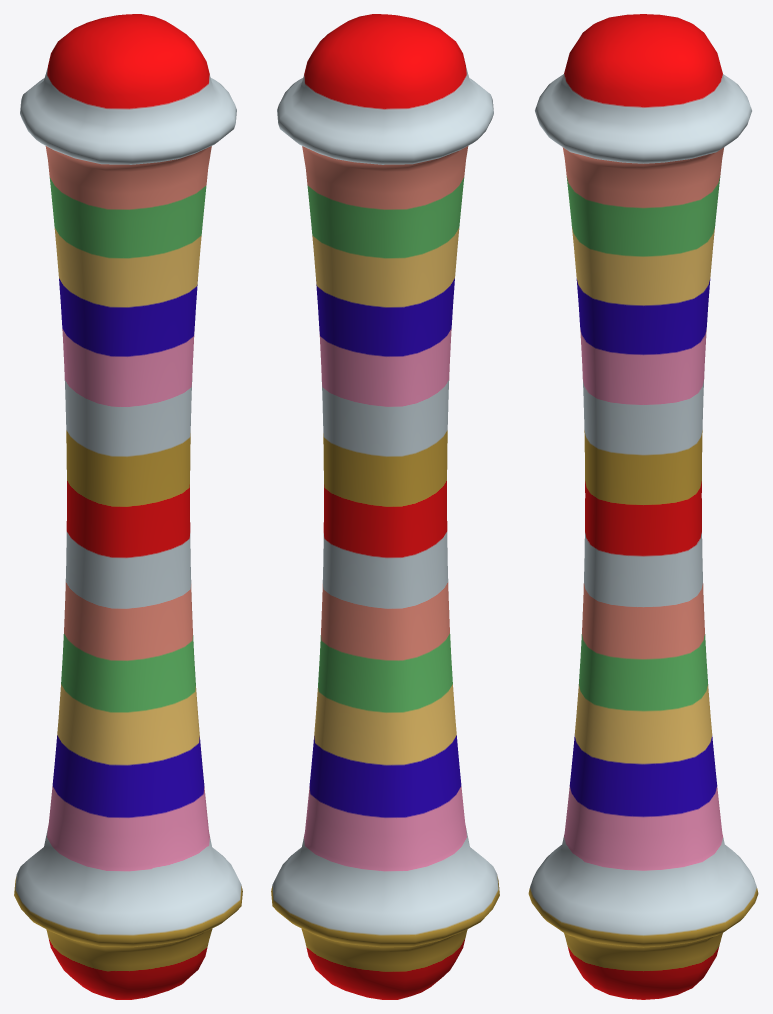
3 views of the same model, side by side, from view 1: azimuth 30°, elevation 25°; view 2: azimuth 150°, elevation 25°; view 3: azimuth 270°, elevation 25° (orthographic).
Parts seen in each view (by area): view 1: BASE; view 2: BASE; view 3: BASE.
Part boxes in pixels (box(x1,y1,x2,y2)): BASE: box(14, 14, 242, 999); BASE: box(271, 14, 499, 999); BASE: box(528, 14, 758, 999).
Bounding box in the file's own units: 0.4623 × 2.15 × 0.4623.
